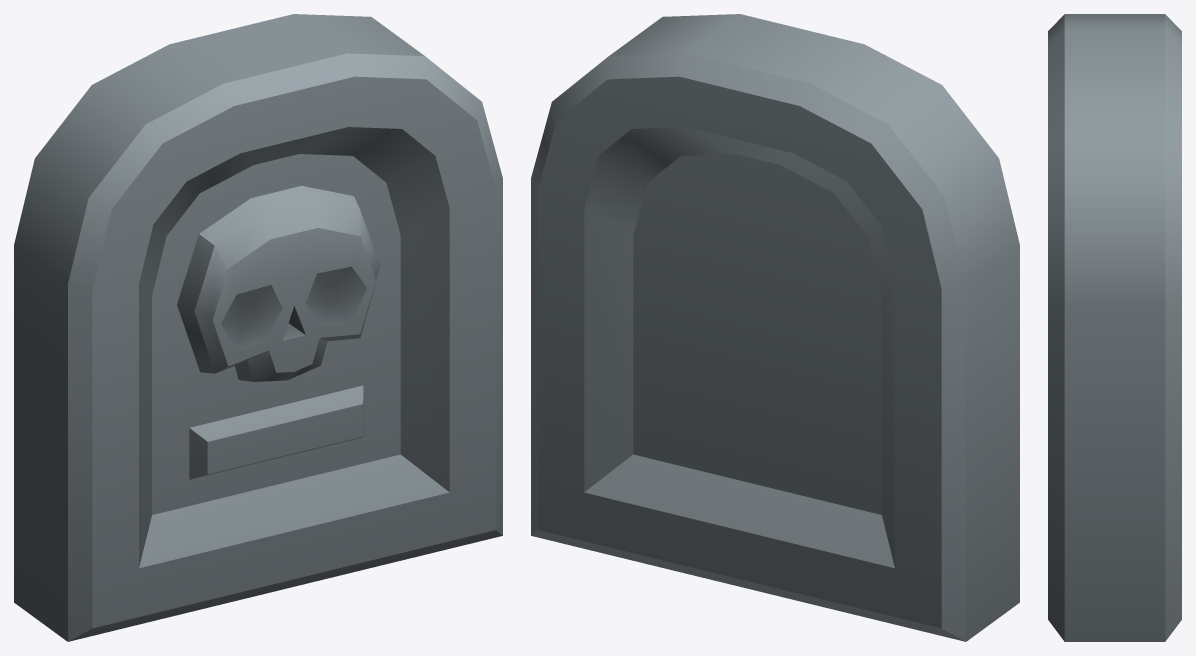
The model's file is Gravestone.glb.
The picture shows the model from 3 angles, left to right: view 1: azimuth 30°, elevation 25°; view 2: azimuth 150°, elevation 25°; view 3: azimuth 270°, elevation 25°; orthographic projection. The views are drawn at different scales.
Parts seen in each view (by area): view 1: gravestone; view 2: gravestone; view 3: gravestone.
Part boxes in pixels (x1,y1,x2,y2): gravestone: [14, 14, 502, 641]; gravestone: [531, 14, 1019, 641]; gravestone: [1048, 14, 1181, 641].
Bounding box in the file's own units: 1.4 × 1.6 × 0.4.
1 material, 1 textured.
